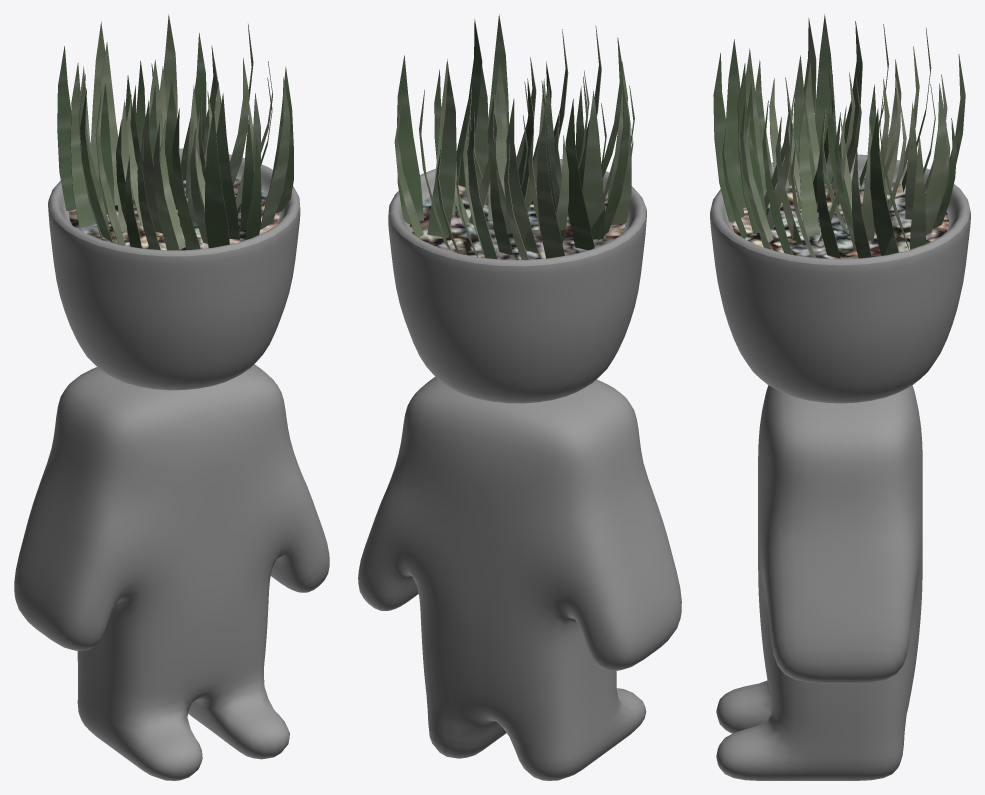
File: Decor_Pot02.FBX
The picture shows the model from 3 angles, left to right: view 1: azimuth 30°, elevation 25°; view 2: azimuth 150°, elevation 25°; view 3: azimuth 270°, elevation 25°; orthographic projection. The views are drawn at different scales.
Visible parts, largest first — view 1: Decor_Pot02A; view 2: Decor_Pot02A; view 3: Decor_Pot02A.
Boxes of the visible parts, box(x1,y1,x2,y2) form: Decor_Pot02A: box(14, 14, 329, 780); Decor_Pot02A: box(358, 14, 681, 780); Decor_Pot02A: box(710, 14, 970, 780).
Bounding box in the file's own units: 79.59 × 188 × 64.01.
